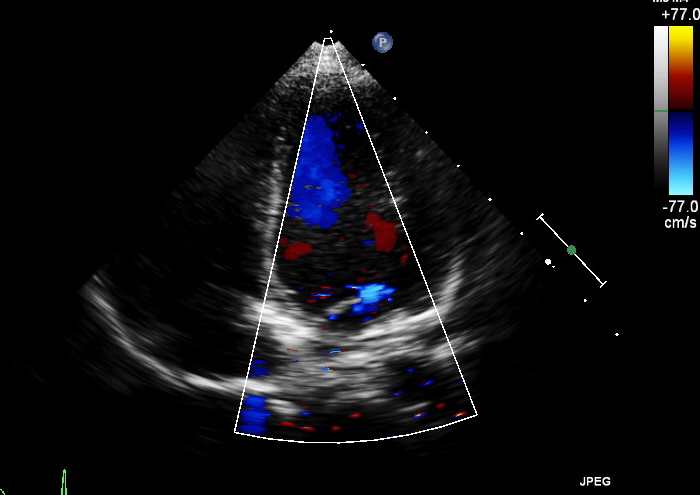MR: (322, 285, 394, 315)
